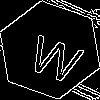W: (25, 25, 89, 85)
